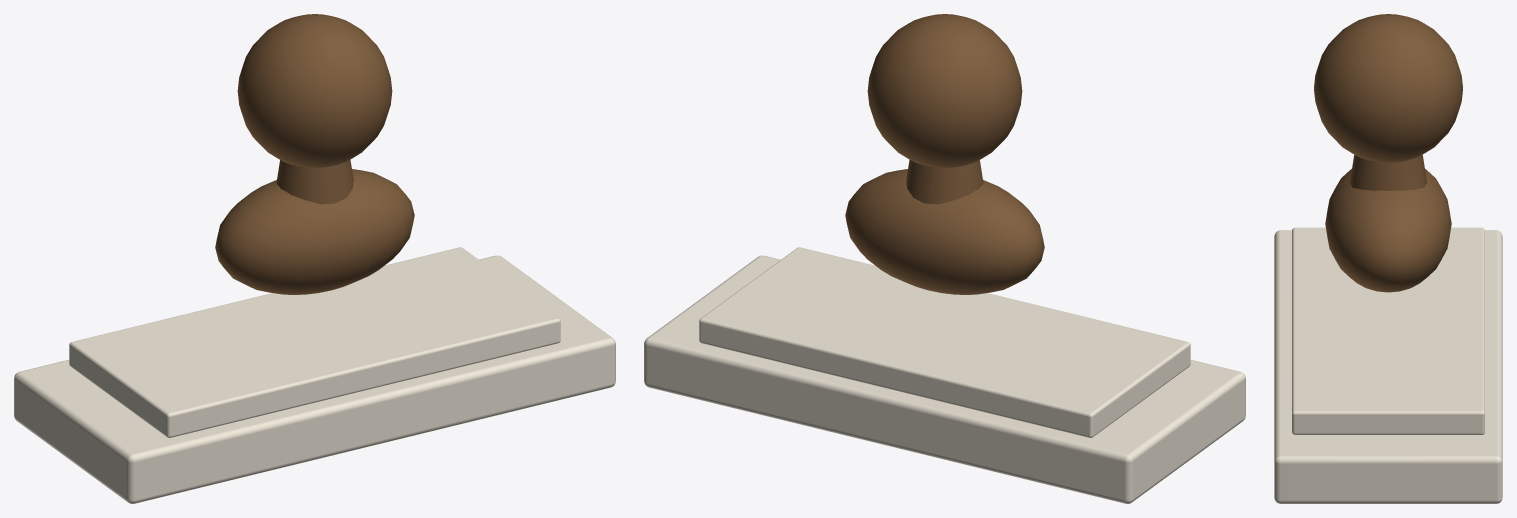
The picture shows the model from 3 angles, left to right: view 1: azimuth 30°, elevation 25°; view 2: azimuth 150°, elevation 25°; view 3: azimuth 270°, elevation 25°; orthographic projection. The views are drawn at different scales.
Size of the model in its own units: 0.62 by 0.465 by 0.26.
